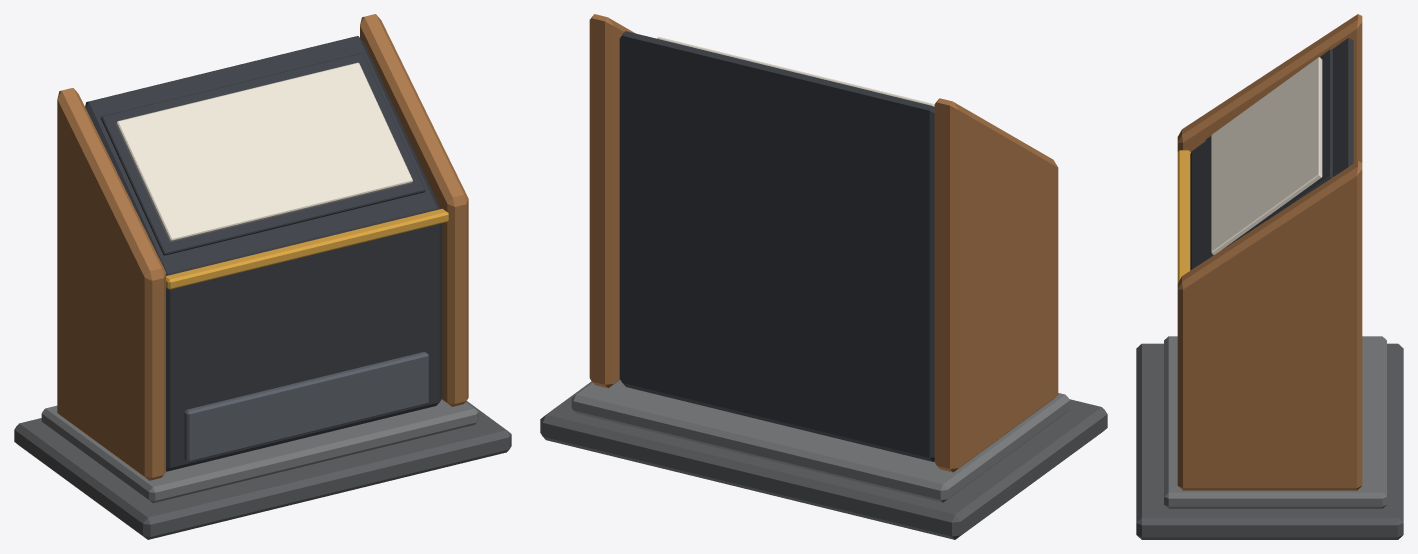
The model's file is Lobby7_StartTerminal.fbx.
3 renders of one model, left to right at view 1: azimuth 30°, elevation 25°; view 2: azimuth 150°, elevation 25°; view 3: azimuth 270°, elevation 25°, orthographic. The views are drawn at different scales.
Parts seen in each view (by area): view 1: Charcoal, Wood, Screen, SlateStoneDark, CharcoalLight, SlateStone, WarmAmber; view 2: Charcoal, Wood, SlateStoneDark, SlateStone, Screen; view 3: Wood, SlateStoneDark, Screen, SlateStone, Charcoal, WarmAmber.
Boxes of the visible parts, x1,y1,x2,y2 form: Charcoal: [85, 36, 442, 471]; Wood: [57, 14, 468, 480]; Screen: [116, 62, 412, 241]; SlateStoneDark: [14, 401, 511, 539]; CharcoalLight: [184, 351, 428, 462]; SlateStone: [41, 399, 478, 503]; WarmAmber: [166, 208, 448, 289]; Charcoal: [619, 31, 934, 461]; Wood: [589, 14, 1058, 472]; SlateStoneDark: [540, 381, 1107, 539]; SlateStone: [571, 380, 1069, 502]; Screen: [657, 37, 934, 106]; Wood: [1177, 14, 1362, 490]; SlateStoneDark: [1136, 343, 1403, 539]; Screen: [1211, 57, 1322, 255]; SlateStone: [1164, 336, 1386, 508]; Charcoal: [1190, 38, 1353, 270]; WarmAmber: [1177, 150, 1190, 283].
Size of the model in its own units: 3.8 by 3.59 by 2.4.
